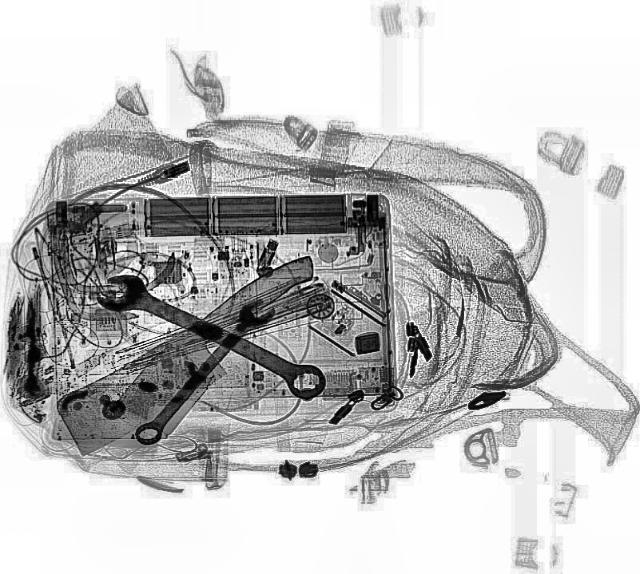Knife: (37, 250, 350, 458)
Wrench: (92, 266, 334, 408), (124, 294, 278, 450)
